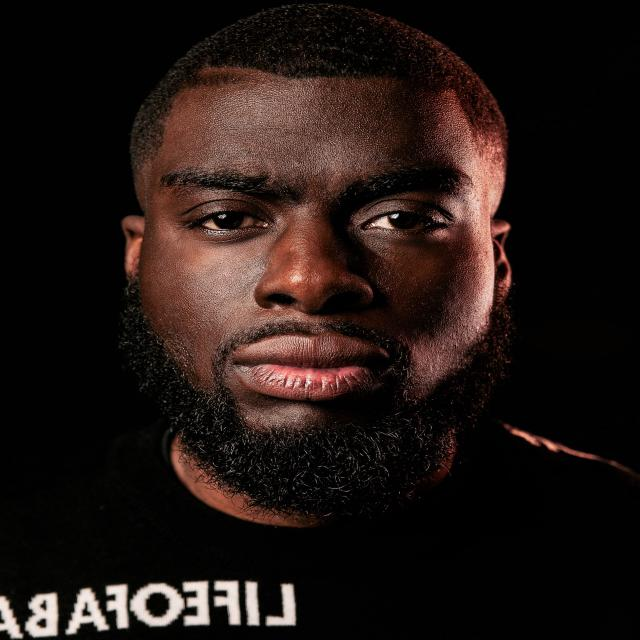adult: (79, 0, 553, 640)
